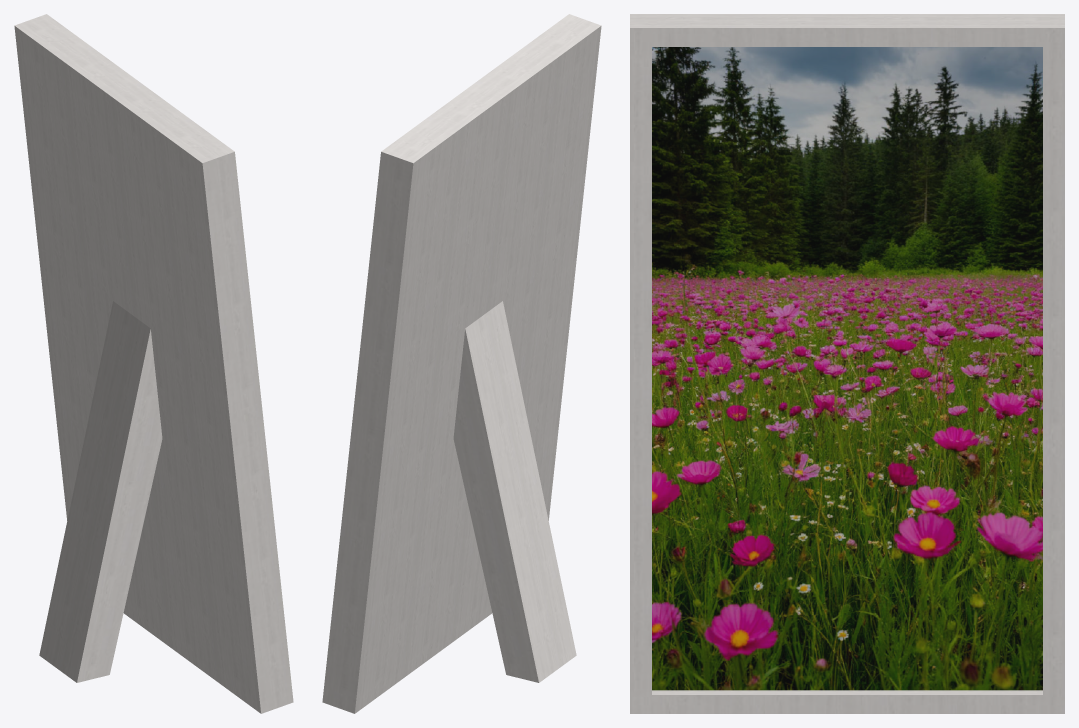
Rendered from photo_frame.glb.
The picture shows the model from 3 angles, left to right: view 1: azimuth 30°, elevation 25°; view 2: azimuth 150°, elevation 25°; view 3: azimuth 270°, elevation 25°; orthographic projection. The views are drawn at different scales.
Parts seen in each view (by area): view 1: photo_frame; view 2: photo_frame; view 3: photo_frame.
Boxes of the visible parts, x1,y1,x2,y2 form: photo_frame: (14,14,293,713); photo_frame: (322,14,601,713); photo_frame: (630,14,1064,713).
Bounding box in the file's own units: 0.0651 × 0.2502 × 0.15.
2 materials, 2 textured.
